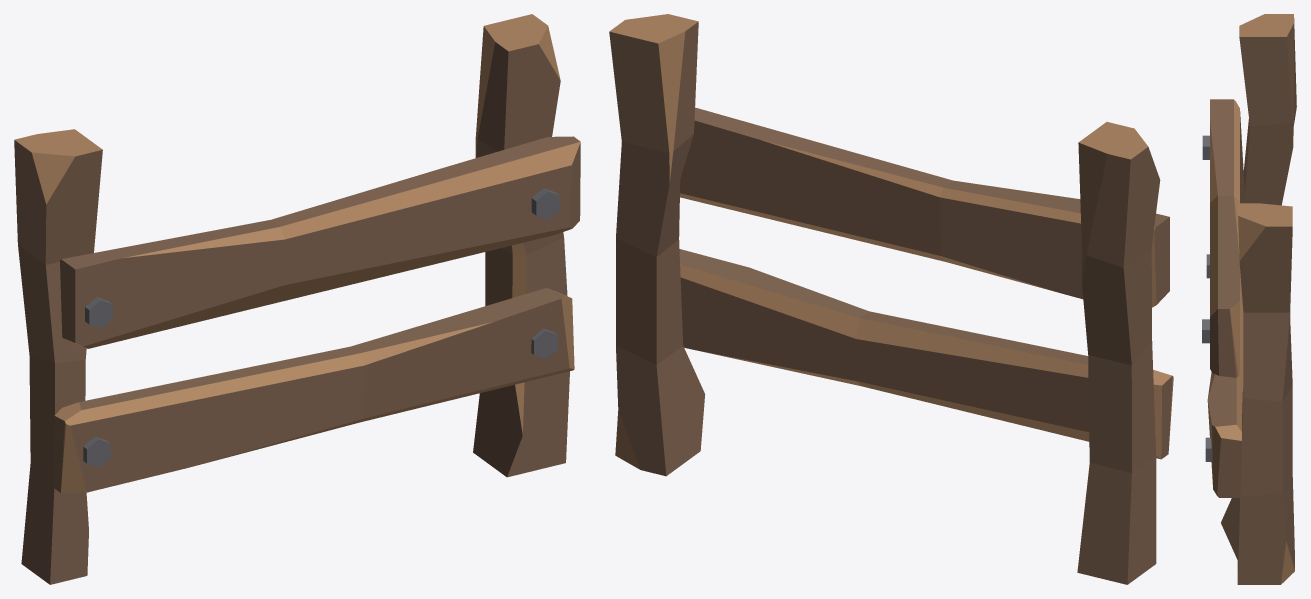
Rendered from ComidaValla.fbx.
3 views of the same model, side by side, from view 1: azimuth 30°, elevation 25°; view 2: azimuth 150°, elevation 25°; view 3: azimuth 270°, elevation 25° (orthographic). The views are drawn at different scales.
Parts seen in each view (by area): view 1: Fence_3; view 2: Fence_3; view 3: Fence_3.
Part boxes in pixels (x1,y1,x2,y2): Fence_3: (14, 14, 580, 584); Fence_3: (609, 14, 1173, 584); Fence_3: (1202, 14, 1296, 584).
Bounding box in the file's own units: 44.19 × 34.24 × 8.21.
